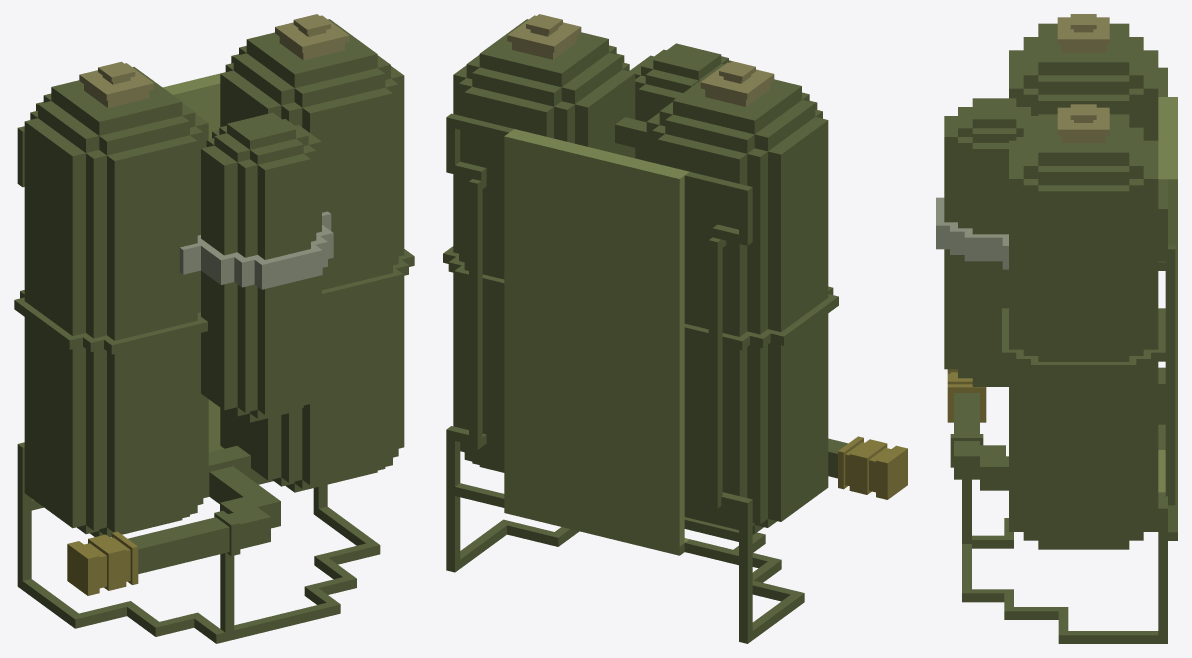
File: flamethrower_tanks.fbx
3 views of the same model, side by side, from view 1: azimuth 30°, elevation 25°; view 2: azimuth 150°, elevation 25°; view 3: azimuth 270°, elevation 25° (orthographic). The views are drawn at different scales.
Visible parts, largest first — view 1: flamethrower_tanks; view 2: flamethrower_tanks; view 3: flamethrower_tanks.
Boxes of the visible parts, x1=… form: flamethrower_tanks: x1=14, y1=14, x2=414, y2=643; flamethrower_tanks: x1=443, y1=14, x2=907, y2=643; flamethrower_tanks: x1=936, y1=14, x2=1177, y2=643.
Size of the model in its own units: 75.15 by 104 by 44.7.
